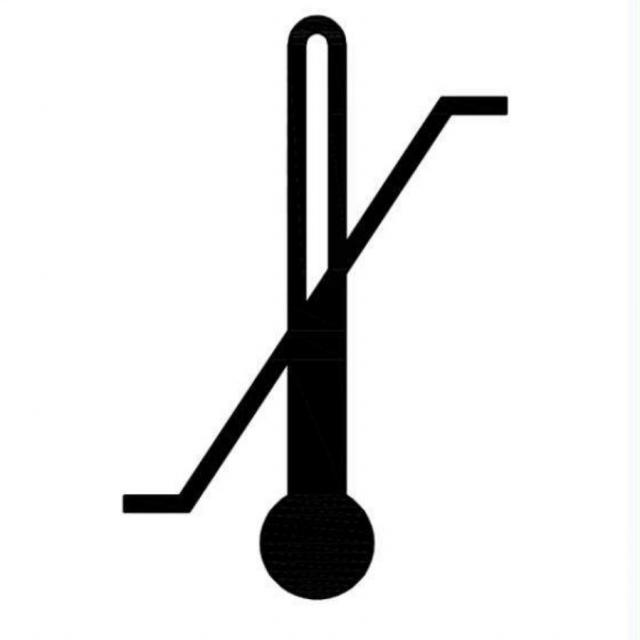Temperature Limit: (120, 15, 511, 602)
